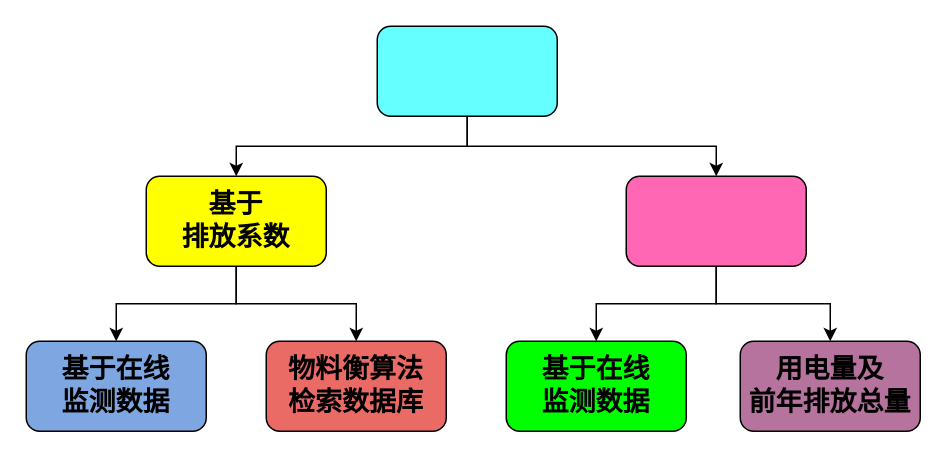
Image size: 947x458. Some labels were removed from this diagram. Here are the shapes that lost their labels. From the top down, the centre of each, then its label:
(x=466, y=70): 固定污染源 排放量计算
(x=715, y=220): 不基于 排放系数
